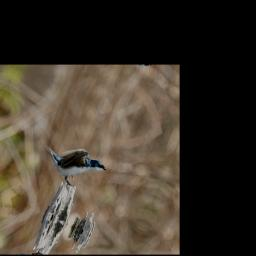Swallow: (28, 130, 111, 198)
